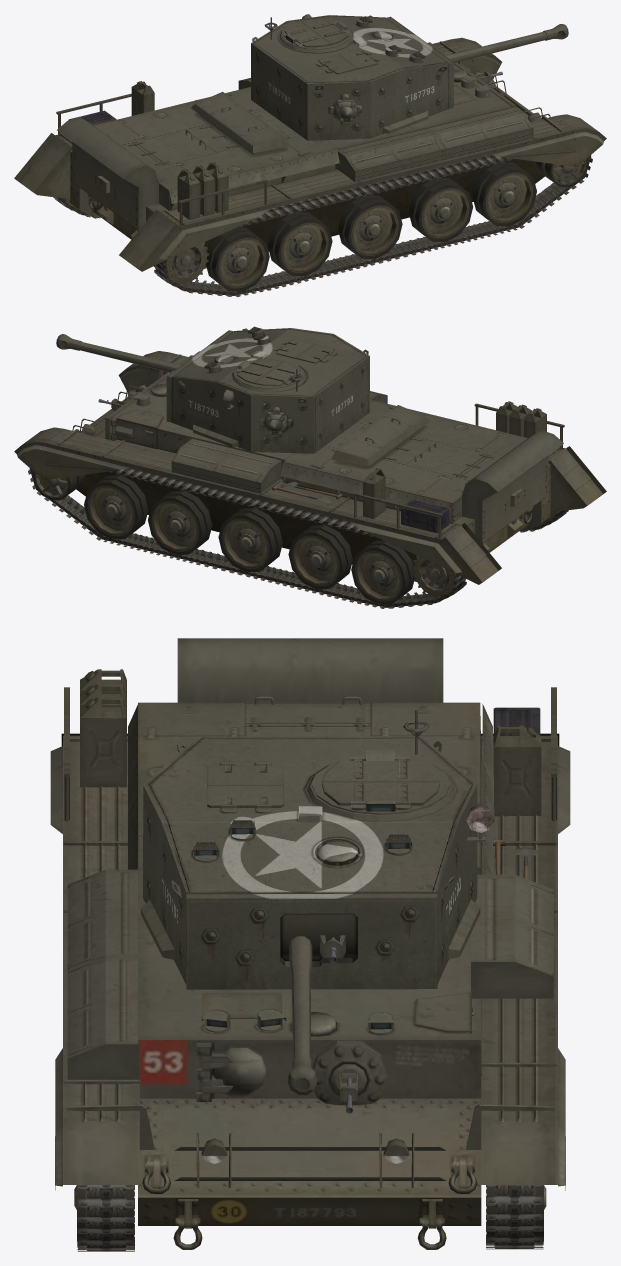
Rendered from cromwell_iv.glb.
3 renders of one model, top to bottom at view 1: azimuth 30°, elevation 25°; view 2: azimuth 150°, elevation 25°; view 3: azimuth 270°, elevation 25°, orthographic. The views are drawn at different scales.
Visible parts, largest first — view 1: hull.001, turret.001, guard, track.001, gear8, wheel3, wheel9, wheel7, wheel5, wheel11, weapon.001, wheel13 (+10 smaller); view 2: hull.001, turret.001, guard, track2, gear8, wheel10, wheel8, wheel6, wheel4, wheel12, hatch4.001, weapon.001 (+11 smaller); view 3: hull.001, turret.001, guard, gear8, gear11, gear3, track.001, weapon.001, track2, mount.001, hatch.001, hatchb (+6 smaller).
Part boxes in pixels (x1,y1,x2,y2): hull.001: (57, 42, 550, 266); turret.001: (251, 14, 453, 140); guard: (14, 37, 606, 271); track.001: (153, 155, 592, 297); gear8: (238, 78, 533, 181); wheel3: (472, 162, 536, 226); wheel9: (268, 212, 332, 276); wheel7: (338, 195, 402, 259); wheel5: (408, 177, 472, 241); wheel11: (206, 227, 269, 291); weapon.001: (444, 24, 568, 63); wheel13: (163, 242, 209, 285); hull.001: (72, 355, 563, 579); turret.001: (166, 326, 369, 453); guard: (14, 351, 606, 584); track2: (28, 468, 466, 608); gear8: (171, 351, 387, 493); wheel10: (288, 525, 352, 589); wheel8: (218, 508, 282, 572); wheel6: (148, 490, 212, 554); wheel4: (84, 475, 148, 539); wheel12: (351, 540, 414, 604); hatch4.001: (110, 409, 163, 448); weapon.001: (56, 334, 181, 372); hull.001: (128, 638, 492, 1249); turret.001: (141, 709, 490, 989); guard: (50, 687, 570, 1190); gear8: (67, 869, 553, 1079); gear11: (494, 725, 541, 816); gear3: (80, 697, 126, 787); track.001: (77, 1185, 134, 1251); weapon.001: (287, 936, 317, 1095); track2: (486, 1185, 543, 1249); mount.001: (280, 914, 357, 957); hatch.001: (321, 782, 439, 805); hatchb: (321, 759, 439, 781).
Size of the model in its own units: 6.81 by 2.54 by 3.14.
5 materials, 5 textured.
